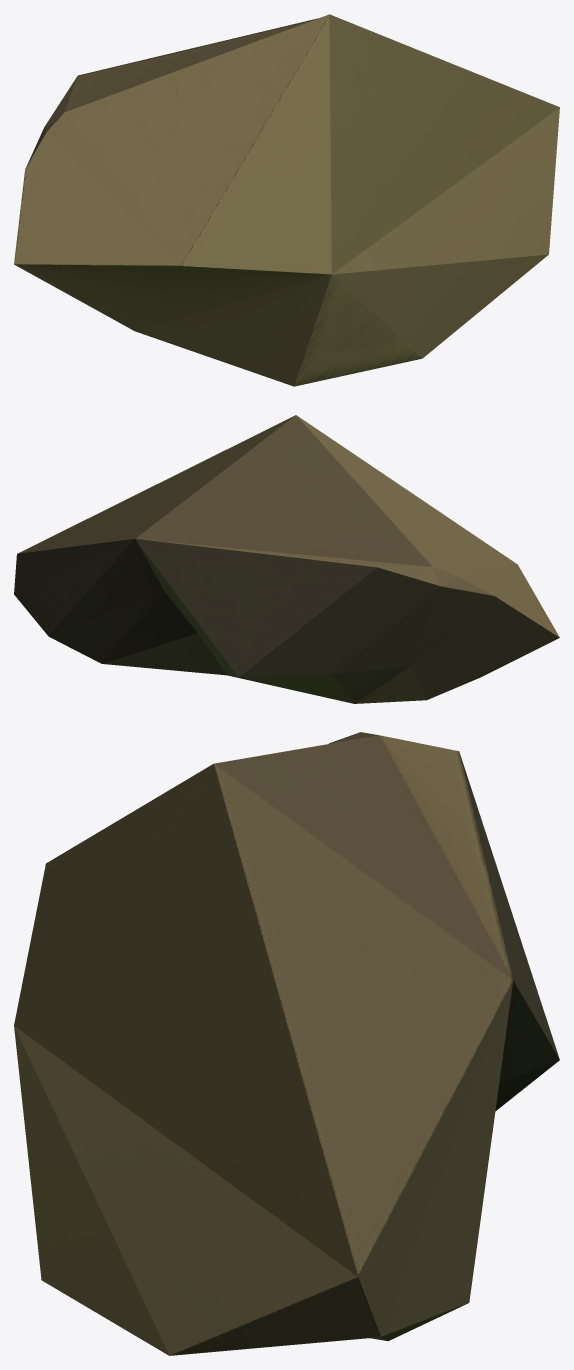
Rendered from rock_1.glb.
The picture shows the model from 3 angles, top to bottom: view 1: azimuth 30°, elevation 25°; view 2: azimuth 150°, elevation 25°; view 3: azimuth 270°, elevation 25°; orthographic projection. The views are drawn at different scales.
Parts seen in each view (by area): view 1: Rock3; view 2: Rock3; view 3: Rock3.
Boxes of the visible parts, box(x1,y1,x2,y2) form: Rock3: box(14, 14, 559, 386); Rock3: box(14, 415, 559, 703); Rock3: box(14, 732, 559, 1355).
Bounding box in the file's own units: 2.44 × 1.28 × 1.26.
1 material, 1 textured.
